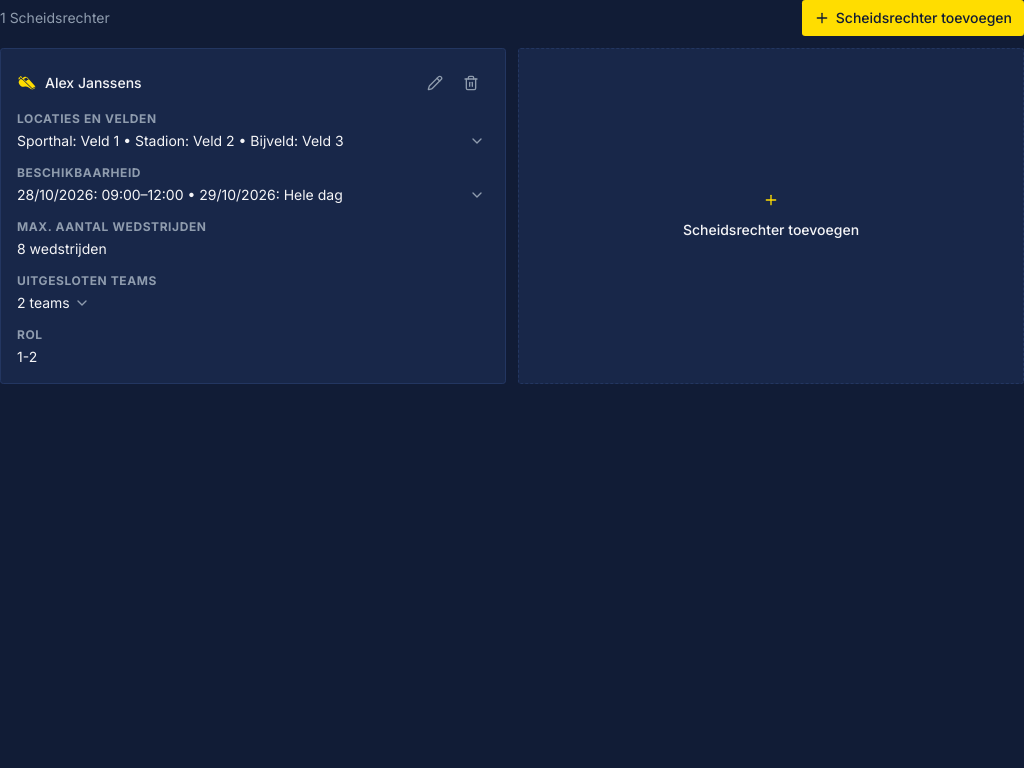
Scenario: Referee overview controls › opens all selected locations in an admin-scoped detail popover
Click the button named "Locaties en velden: alle details" at (477, 141), box [465,129,489,153]
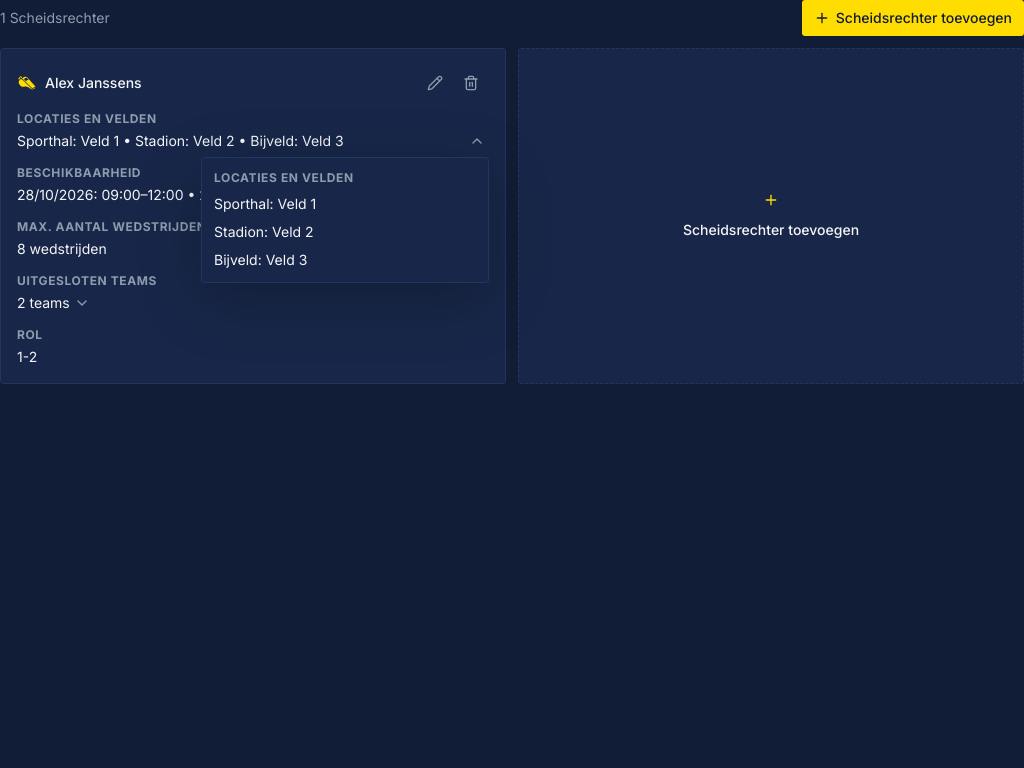
expect the list item "Stadion: Veld 2" is shown: met, box [214,223,314,240]
expect the list item "Bijveld: Veld 3" is shown: met, box [214,251,307,268]
